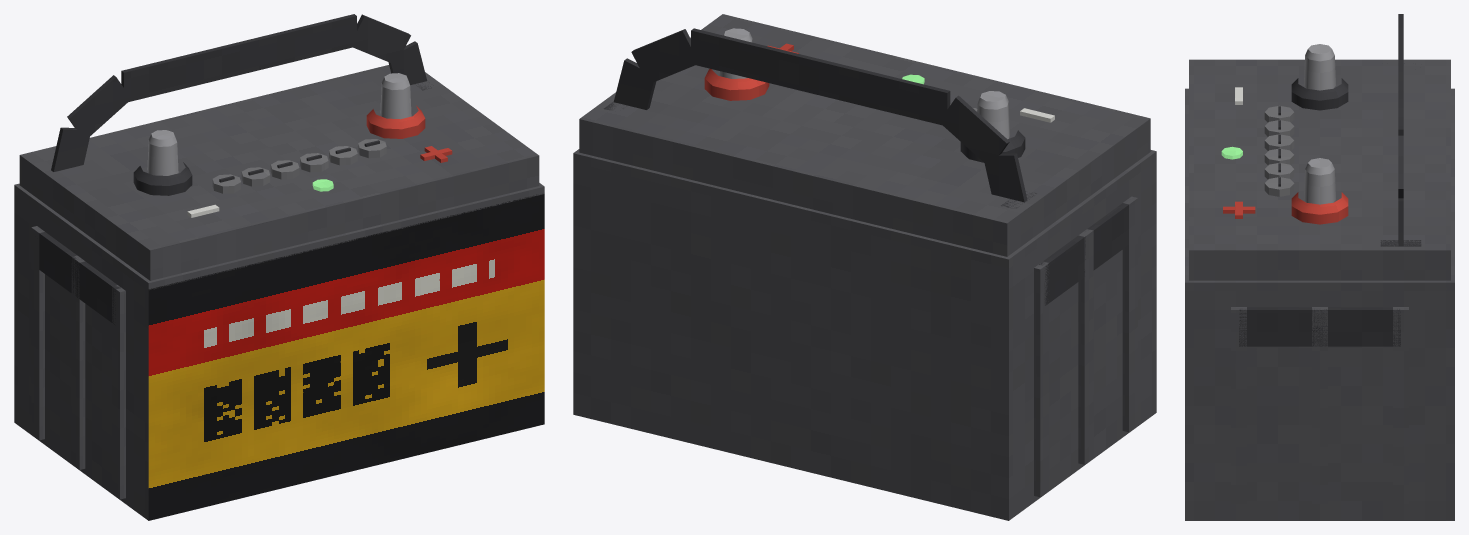
The model's file is item_car_battery.glb.
3 renders of one model, left to right at view 1: azimuth 30°, elevation 25°; view 2: azimuth 150°, elevation 25°; view 3: azimuth 270°, elevation 25°, orthographic. The views are drawn at different scales.
Visible parts, largest first — view 1: battery; view 2: battery; view 3: battery.
Part boxes in pixels (left/top/right/bottom): battery: left=14, top=14, right=544, bottom=520; battery: left=573, top=14, right=1156, bottom=520; battery: left=1185, top=14, right=1454, bottom=520.
Size of the model in its own units: 0.35 by 0.2875 by 0.2.
8 materials, 8 textured.
